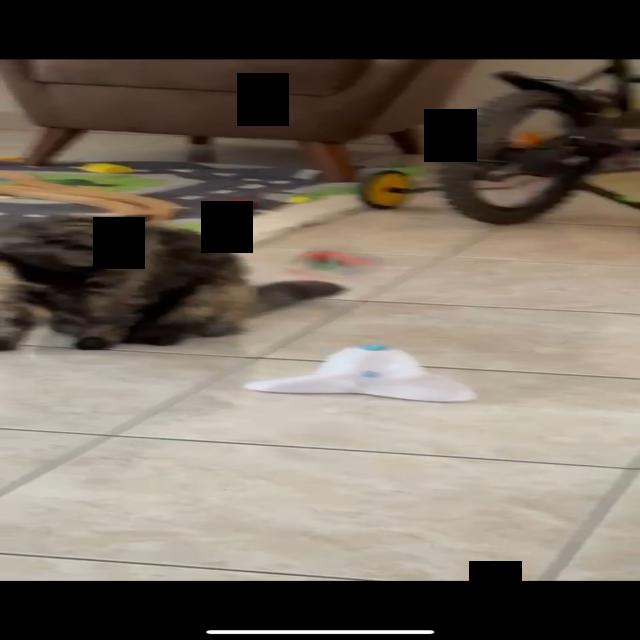authorized: (0, 212, 348, 351)
